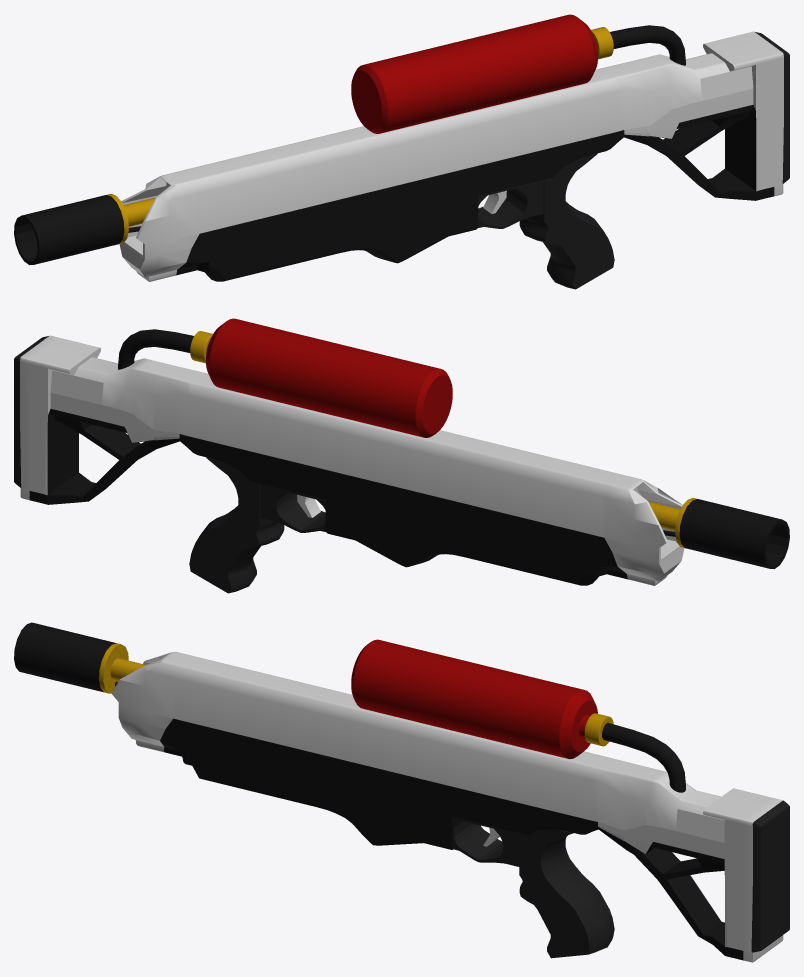
3 views of the same model, one above another, from view 1: azimuth 30°, elevation 25°; view 2: azimuth 150°, elevation 25°; view 3: azimuth 330°, elevation 25° (orthographic).
Parts seen in each view (by area): view 1: FlameThrower; view 2: FlameThrower; view 3: FlameThrower.
Part boxes in pixels (x1=…): FlameThrower: x1=14, y1=14, x2=789, y2=289; FlameThrower: x1=14, y1=318, x2=789, y2=593; FlameThrower: x1=14, y1=622, x2=789, y2=962.
Size of the model in its own units: 17.41 by 5.78 by 1.42.
